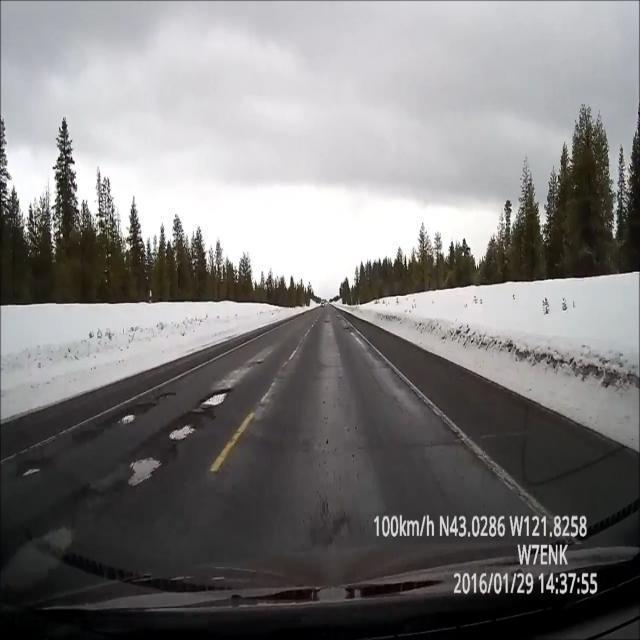pothole: (117, 446, 174, 509), (199, 372, 235, 418), (164, 418, 204, 453)
